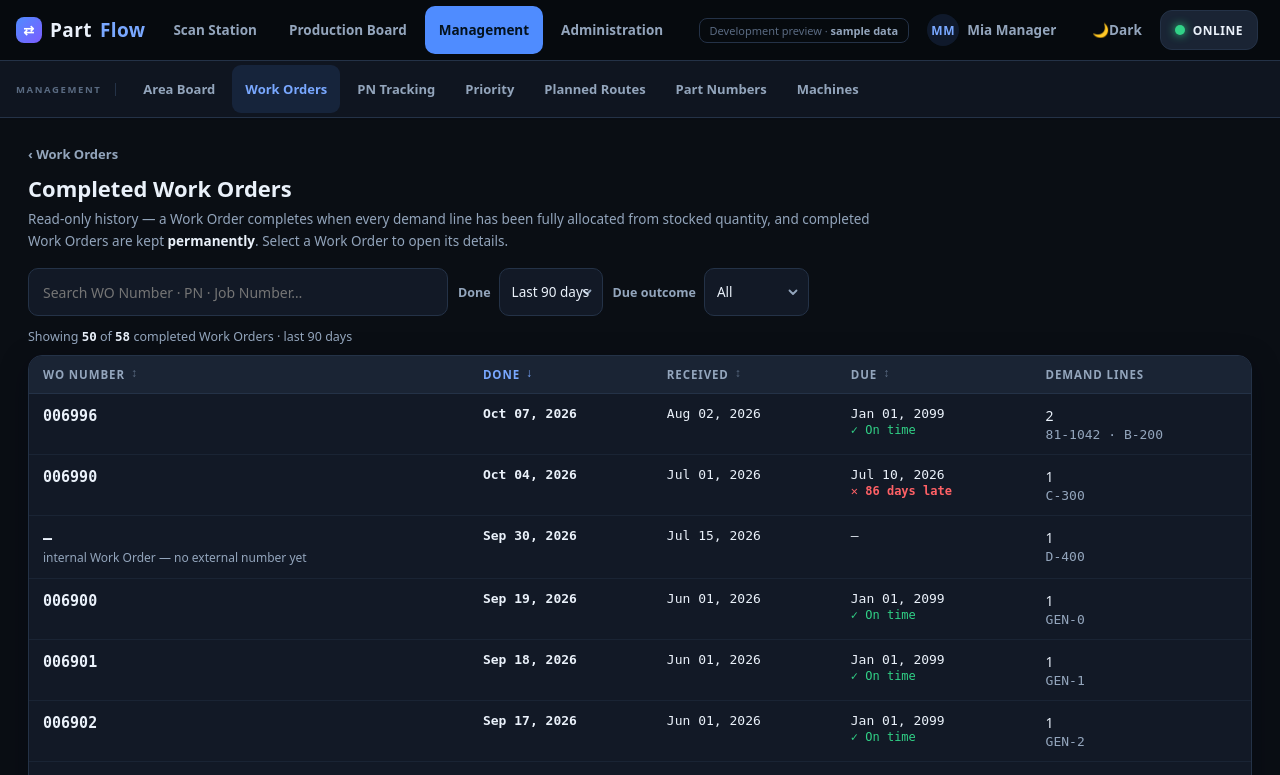
Test case: a continuation still pending when the filters change is ignored — never appended to the new page
Expected: the heading "Completed Work Orders" is shown, [28,173,292,203]
Expected: the text "Showing 50 of 58 completed Work Orders · last 90 days" is shown, [28,328,352,345]
Select "All time" in the dropdown named "Done date range" at (551, 292), box [499,268,603,316]
(page scrolled)
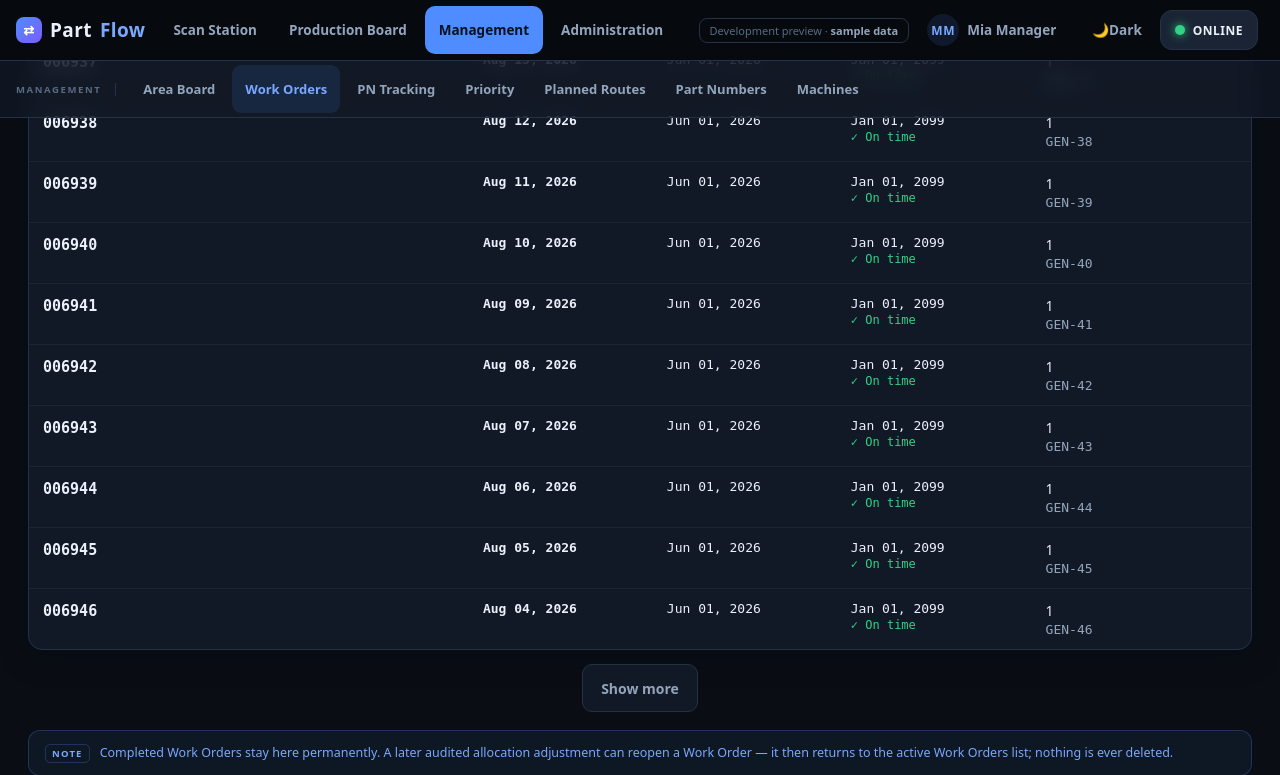
Click the button "Show more" at (640, 688), box [582,664,698,712]
(page scrolled)
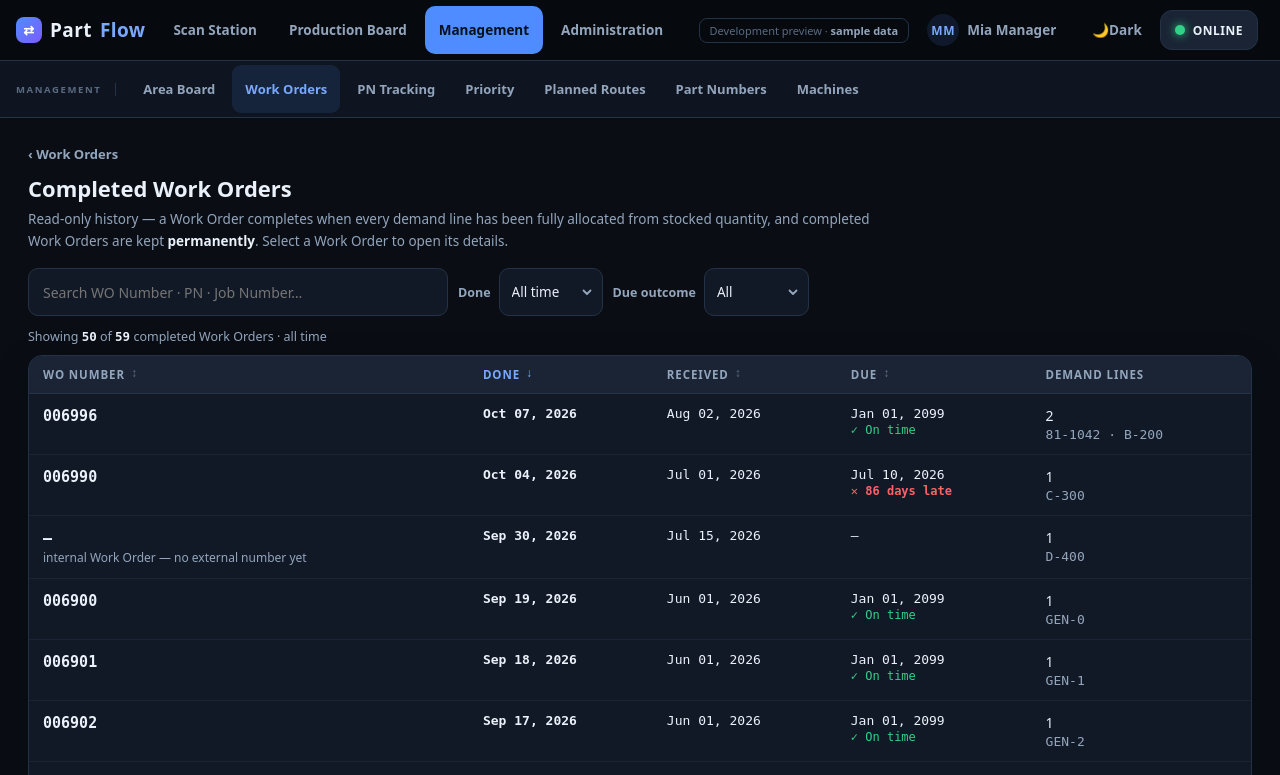
Select "Last 90 days" in the dropdown named "Done date range" at (551, 292), box [499,268,603,316]
(page scrolled)
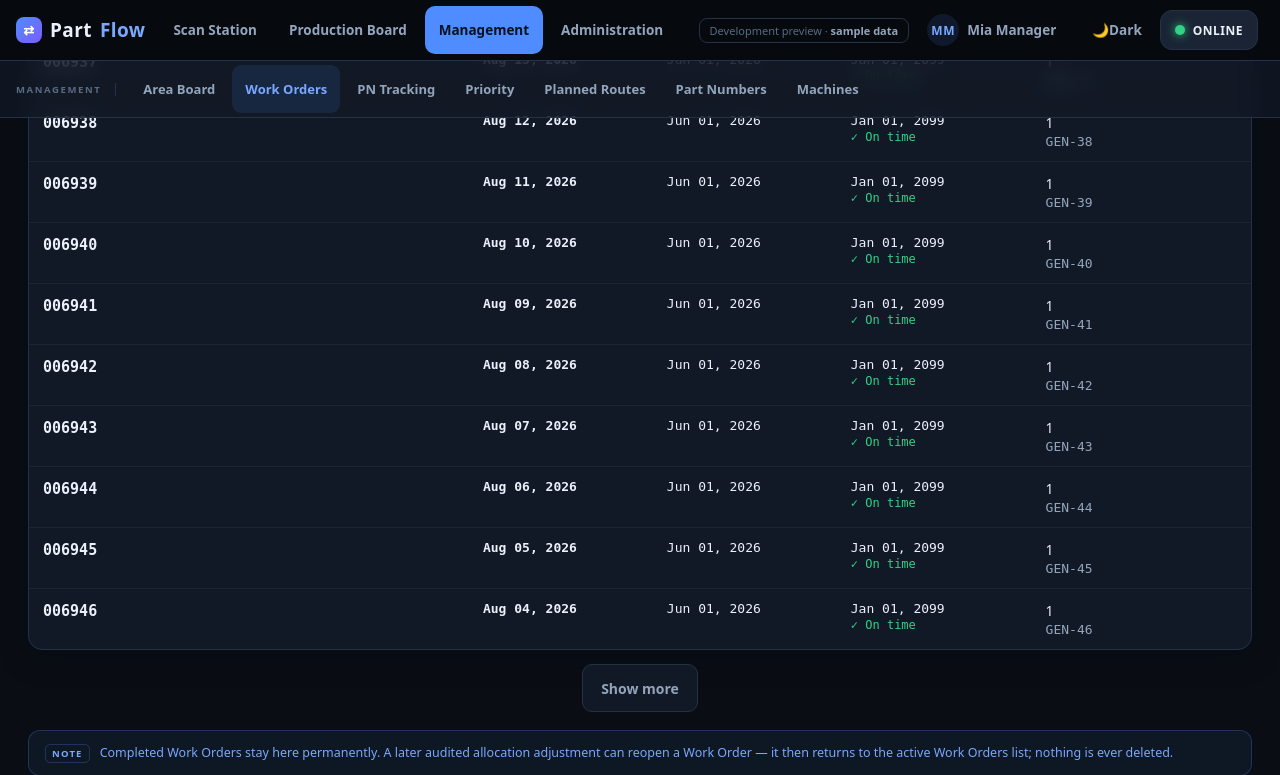
Click the button "Show more" at (640, 688), box [582,664,698,712]
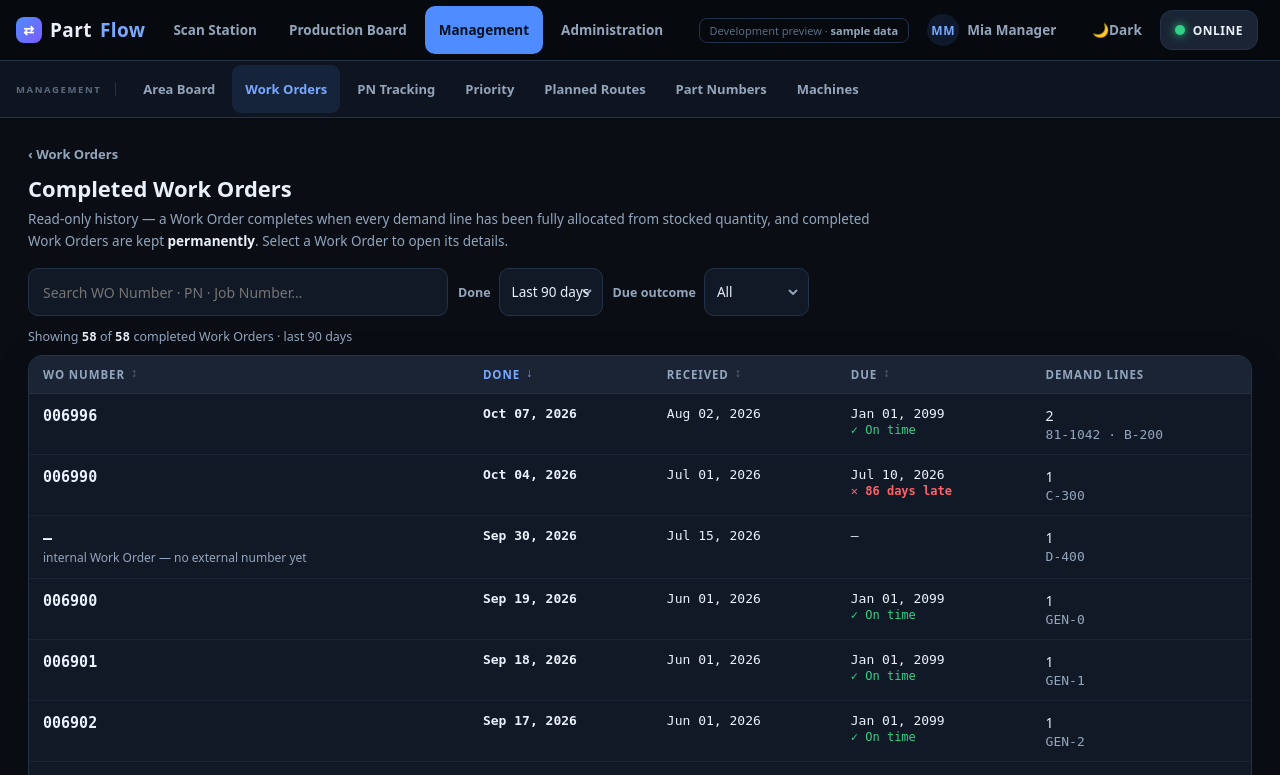
Result: the element with class "cwo-summary" reads "Showing 58 of 58 completed Work Orders · last 90 days" at [28,328,352,345]
Result: the button "Show more" is gone
